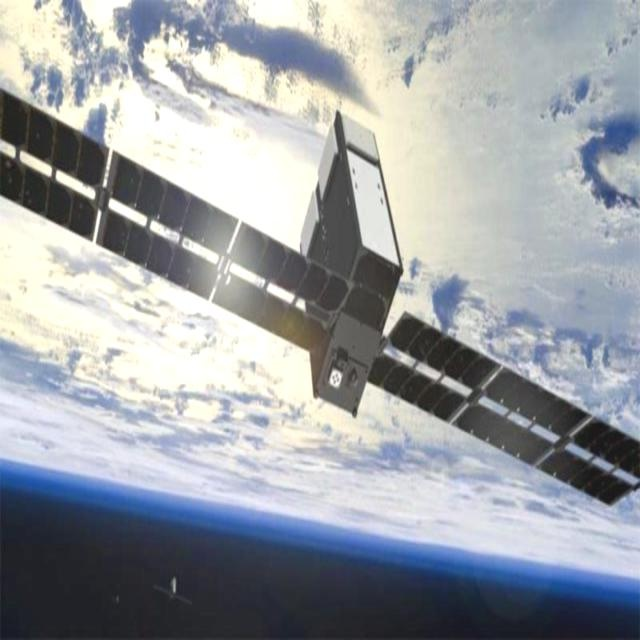medium_debris: (0, 86, 640, 542)
